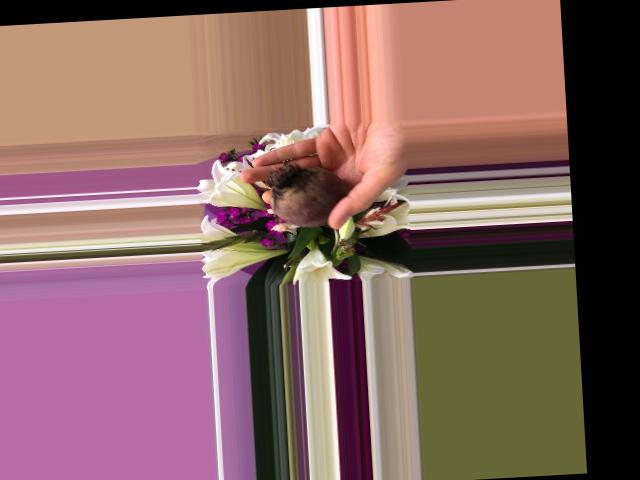beet: (266, 163, 350, 258)
